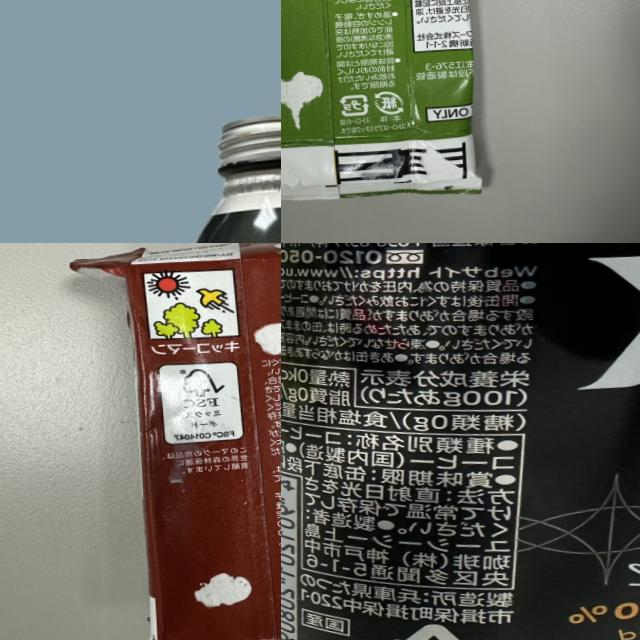Aluminium Foil: (97, 243, 281, 640), (281, 0, 501, 214)
Can: (281, 243, 640, 640), (181, 95, 281, 243)
